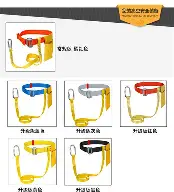safety belt2: (8, 28, 55, 73), (66, 140, 111, 186), (68, 83, 112, 130), (14, 139, 55, 186), (12, 83, 54, 128), (122, 83, 163, 125)
